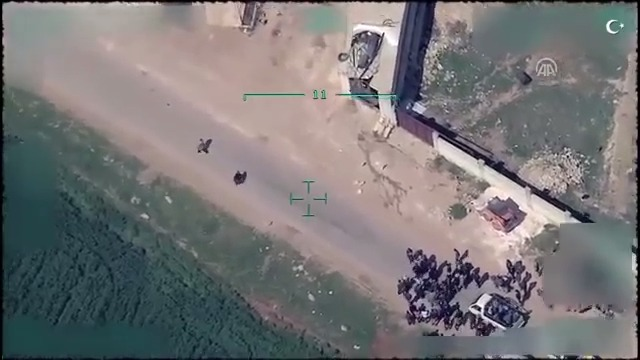arac: (471, 182, 525, 234), (467, 285, 528, 328)
insan: (194, 134, 209, 157), (392, 278, 408, 294)
